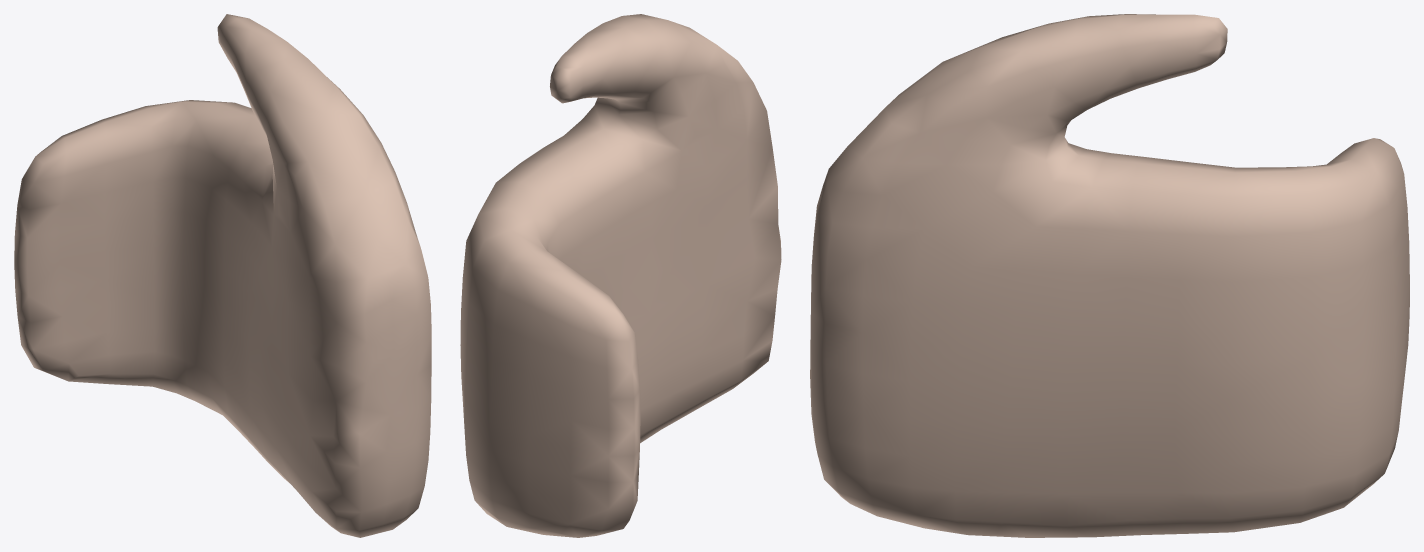
File: R Hand.fbx
3 renders of one model, left to right at view 1: azimuth 30°, elevation 25°; view 2: azimuth 150°, elevation 25°; view 3: azimuth 270°, elevation 25°, orthographic. The views are drawn at different scales.
Parts seen in each view (by area): view 1: R Hand; view 2: R Hand; view 3: R Hand.
Boxes of the visible parts, x1,y1,x2,y2 form: R Hand: [14, 14, 431, 537]; R Hand: [460, 14, 781, 537]; R Hand: [810, 14, 1409, 537].
Bounding box in the file's own units: 5.58 × 10.4 × 11.24.
